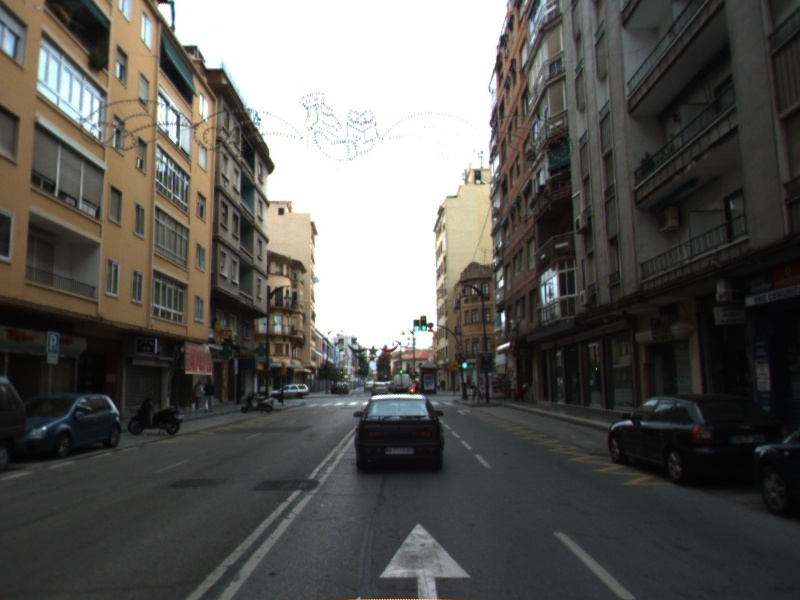RIGHT: (455, 407, 473, 417)
STRAIGHT: (377, 521, 473, 600)
